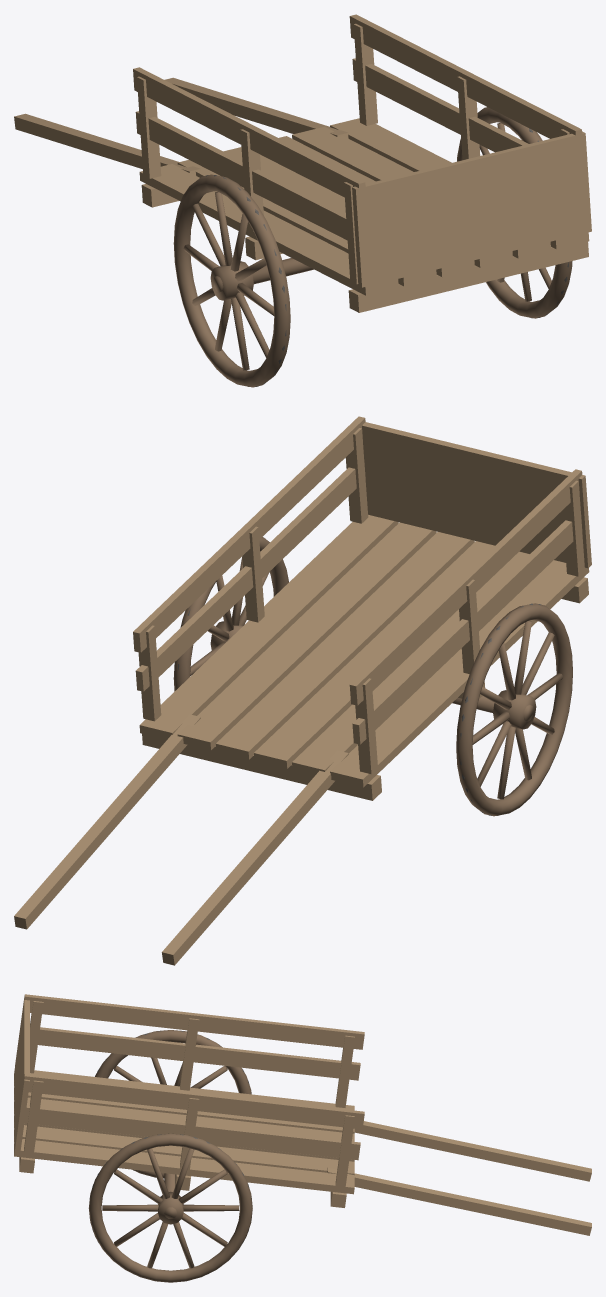
File: cart.glb
The picture shows the model from 3 angles, top to bottom: view 1: azimuth 30°, elevation 25°; view 2: azimuth 150°, elevation 25°; view 3: azimuth 270°, elevation 25°; orthographic projection. The views are drawn at different scales.
Visible parts, largest first — view 1: cart_wood, cart_wheels, cart_axle; view 2: cart_wood, cart_wheels; view 3: cart_wood, cart_wheels.
Boxes of the visible parts, x1,y1,x2,y2 form: cart_wood: (14,14,591,312); cart_wheels: (173,107,572,387); cart_axle: (213,258,313,292); cart_wood: (14,416,591,965); cart_wheels: (173,537,572,816); cart_wood: (14,994,591,1235); cart_wheels: (88,1030,252,1282).
Size of the model in its own units: 1.9 by 1.51 by 4.05.
